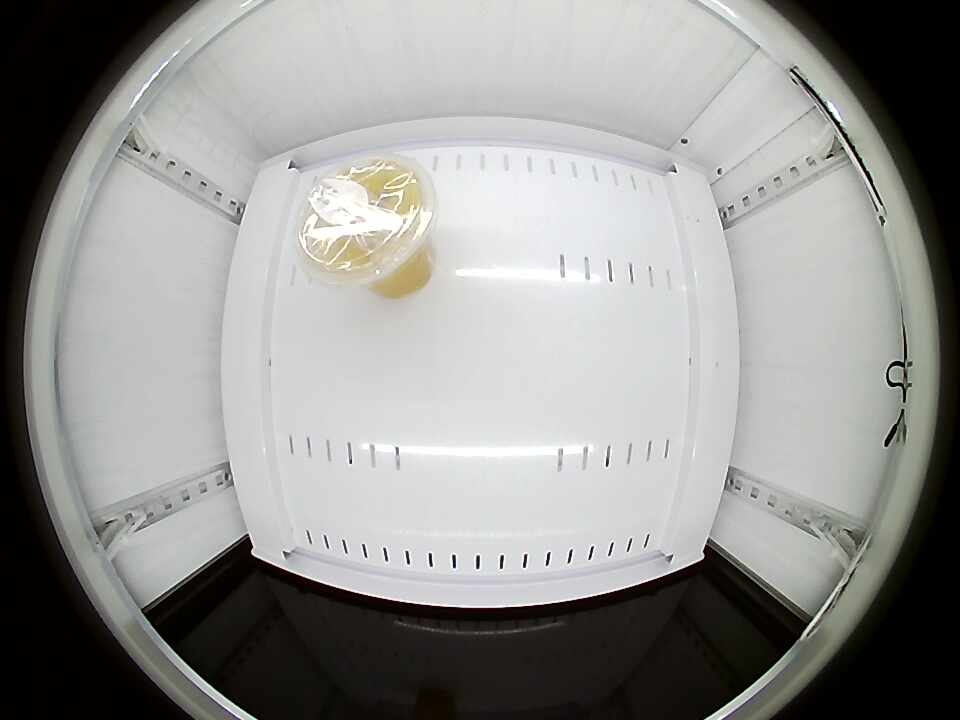xianguolao: (295, 156, 434, 291)
